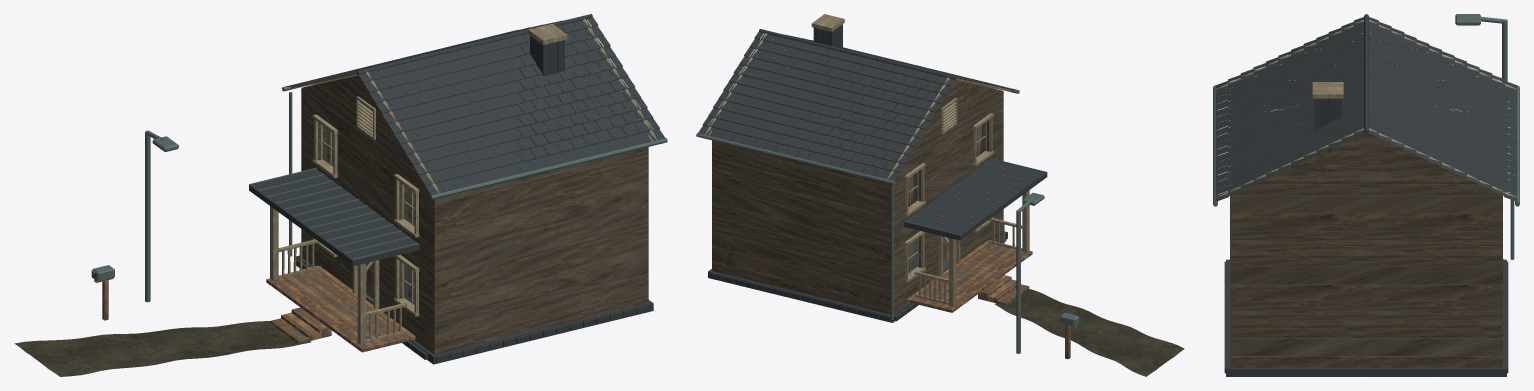
File: roadside-set-r1.glb
The picture shows the model from 3 angles, left to right: view 1: azimuth 30°, elevation 25°; view 2: azimuth 150°, elevation 25°; view 3: azimuth 270°, elevation 25°; orthographic projection. The views are drawn at different scales.
Parts seen in each view (by area): view 1: VT1 Cleared weatherboard with original worn paint, VT1 Original individually laid slate and brick, VT1 Original faded porch trim, VT1 Original driveway gravel, VT1 Cleared old porch timber, VT1 Original weathered municipal metal, VT1 Warm recessed house window glass; view 2: VT1 Cleared weatherboard with original worn paint, VT1 Original individually laid slate and brick, VT1 Original faded porch trim, VT1 Original driveway gravel, VT1 Cleared old porch timber, VT1 Original weathered municipal metal, VT1 Warm recessed house window glass; view 3: VT1 Cleared weatherboard with original worn paint, VT1 Original individually laid slate and brick, VT1 Original weathered municipal metal, VT1 Original faded porch trim.
Boxes of the visible parts, x1,y1,x2,y2 form: VT1 Cleared weatherboard with original worn paint: (301,23,648,354); VT1 Original individually laid slate and brick: (249,14,665,364); VT1 Original faded porch trim: (92,18,656,344); VT1 Original driveway gravel: (14,321,311,376); VT1 Cleared old porch timber: (102,266,415,352); VT1 Original weathered municipal metal: (91,29,667,302); VT1 Warm recessed house window glass: (323,127,414,303); VT1 Cleared weatherboard with original worn paint: (712,36,1003,314); VT1 Original individually laid slate and brick: (698,24,1047,322); VT1 Original faded porch trim: (705,14,1078,327); VT1 Original driveway gravel: (995,289,1184,376); VT1 Cleared old porch timber: (907,240,1070,359); VT1 Original weathered municipal metal: (696,48,1079,353); VT1 Warm recessed house window glass: (908,123,984,271); VT1 Cleared weatherboard with original worn paint: (1230,27,1502,367); VT1 Original individually laid slate and brick: (1215,14,1517,376); VT1 Original weathered municipal metal: (1213,14,1519,259); VT1 Original faded porch trim: (1215,20,1517,197).
Bounding box in the file's own units: 14.4 × 6.8 × 7.21.
Materials: 8 (6 with a texture image).
